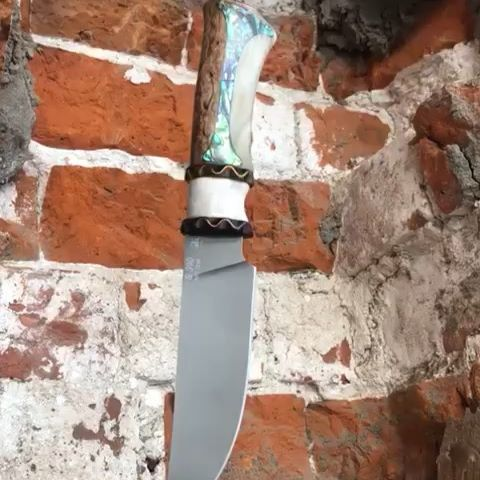knife: (167, 1, 277, 480)
